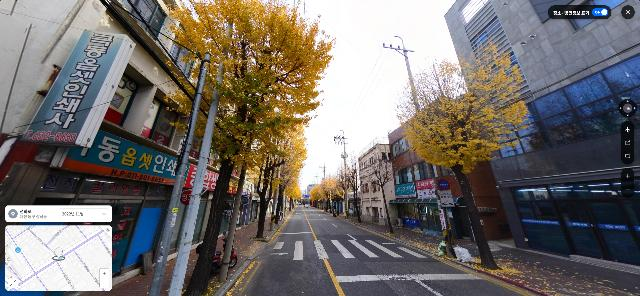ginkgo: (160, 0, 336, 296), (394, 32, 536, 269), (253, 129, 309, 239), (307, 169, 332, 214), (326, 172, 344, 218)
other: (358, 142, 396, 234), (342, 157, 362, 224)
